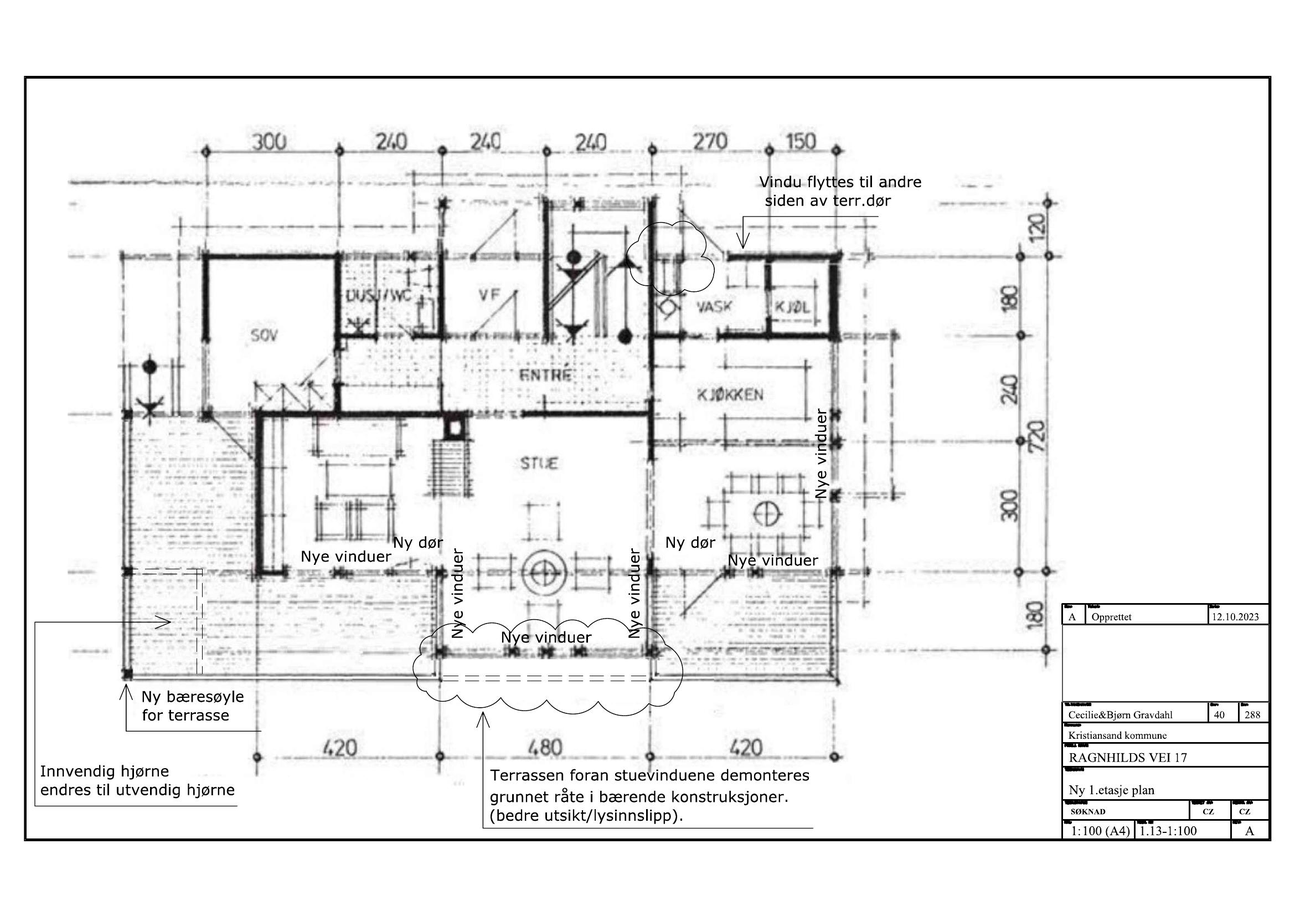plantegning: (93, 179, 922, 706)
